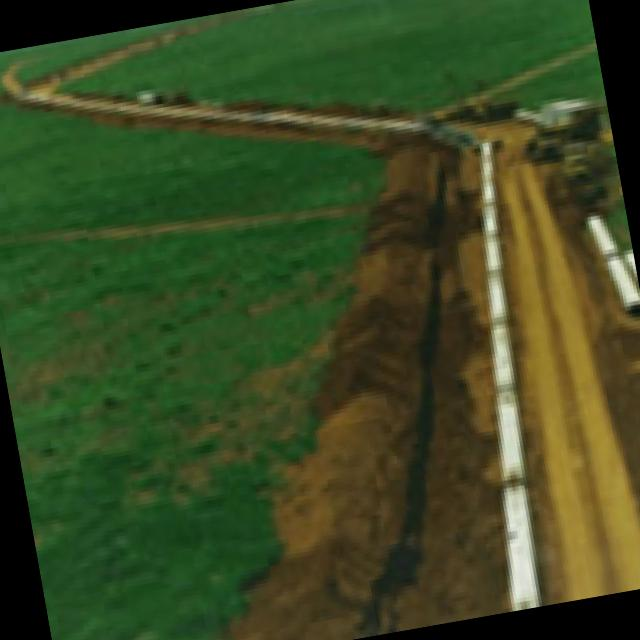gas: (478, 143, 540, 611)
